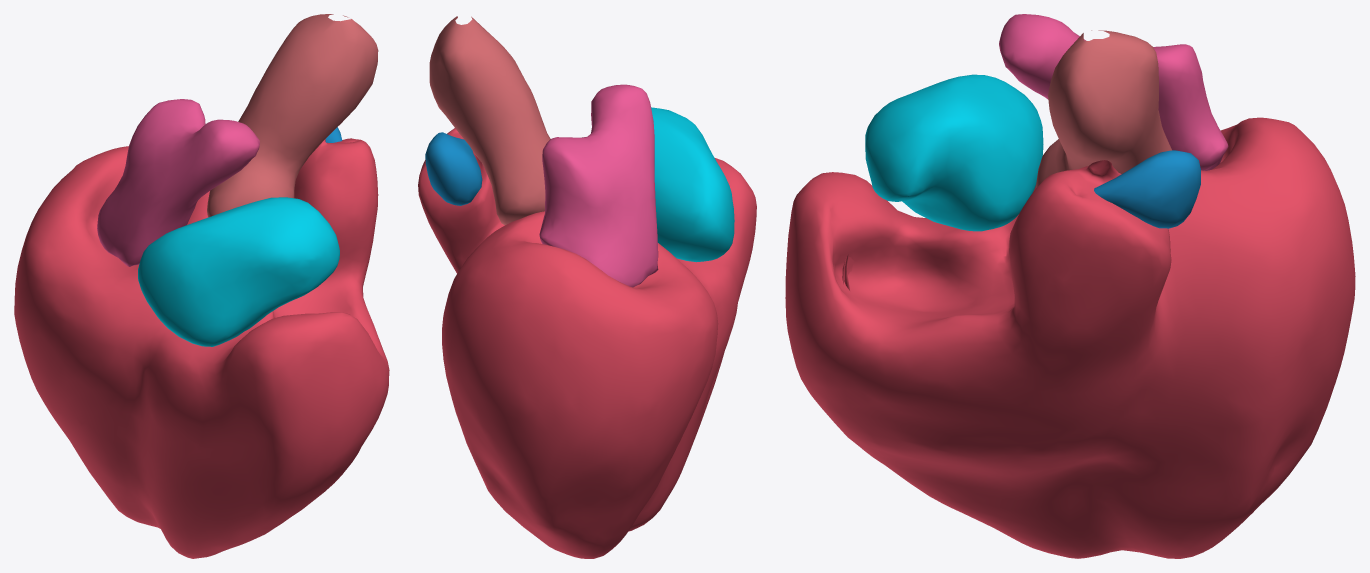
File: frame_71.glb
The picture shows the model from 3 angles, left to right: view 1: azimuth 30°, elevation 25°; view 2: azimuth 150°, elevation 25°; view 3: azimuth 270°, elevation 25°; orthographic projection. The views are drawn at different scales.
Parts seen in each view (by area): view 1: Renderer Node; view 2: Renderer Node; view 3: Renderer Node.
Part boxes in pixels (left/top/right/bottom): Renderer Node: left=14, top=14, right=389, bottom=558; Renderer Node: left=418, top=16, right=756, bottom=558; Renderer Node: left=785, top=14, right=1355, bottom=558.
Size of the model in its own units: 105 by 162 by 135.
